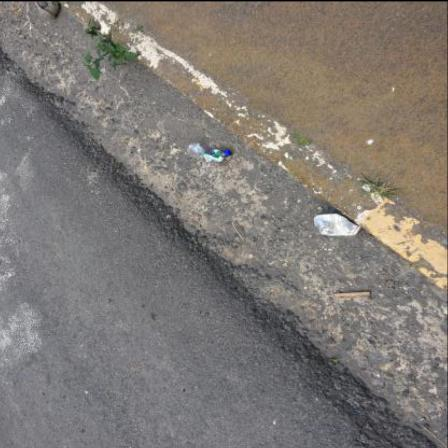Aluminium foil: (314, 214, 362, 236)
Bottle: (189, 142, 233, 162)
Bottle cap: (226, 150, 232, 156)
Cigarette: (30, 26, 34, 30)
